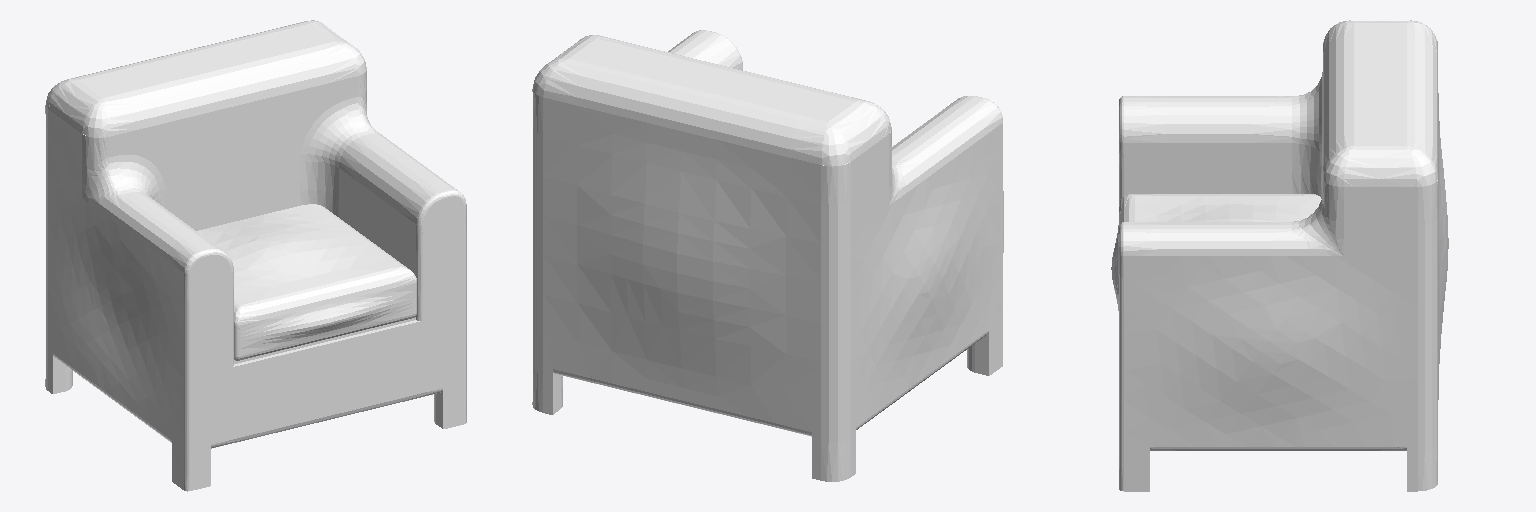
URDF robot description (armchair_ekenas):
<robot
  name="armchair_ekenas">
  <link
    name="armchair_ekenas">
    <inertial>
      <origin
        xyz="-7.7469E-08 0.4444 0.31194"
        rpy="0 0 0" />
      <mass
        value="393.32" />
      <inertia
        ixx="37.2433600677861"
        ixy="1.07625391002185E-05"
        ixz="1.94384895627184E-05"
        iyy="43.0590279160134"
        iyz="-6.06657650171367"
        izz="46.8817058064854" />
    </inertial>
    <visual>
      <origin
        xyz="0 0 0"
        rpy="0 0 0" />
      <geometry>
        <mesh
          filename="package://armchair_ekenas/meshes/armchair_ekenas.dae" />
      </geometry>
      <material
        name="">
        <color
          rgba="1 1 1 1" />
      </material>
    </visual>
    <collision>
      <origin
        xyz="0 0 0"
        rpy="0 0 0" />
      <geometry>
        <mesh
          filename="package://armchair_ekenas/meshes/armchair_ekenas.dae" />
      </geometry>
    </collision>
  </link>
</robot>

--- Facts derived from the render (not from the file) ---
3 views of the same robot in one strip: view 1: azimuth 30°, elevation 25°; view 2: azimuth 150°, elevation 25°; view 3: azimuth 270°, elevation 25° (orthographic).
Model armchair_ekenas with 1 links and 0 joints (none), rooted at armchair_ekenas, posed every joint at zero.
Visible links, largest first — view 1: armchair_ekenas; view 2: armchair_ekenas; view 3: armchair_ekenas.
Boxes of the visible links, box(x1,y1,x2,y2) form: armchair_ekenas: box(45, 20, 466, 491); armchair_ekenas: box(532, 30, 1003, 481); armchair_ekenas: box(1111, 20, 1448, 491).
Bounding box of the posed robot: 0.8978 × 0.8255 × 0.8985 m (x, y, z).
1 mesh visuals loaded from 1 distinct referenced files (1 Collada DAE).